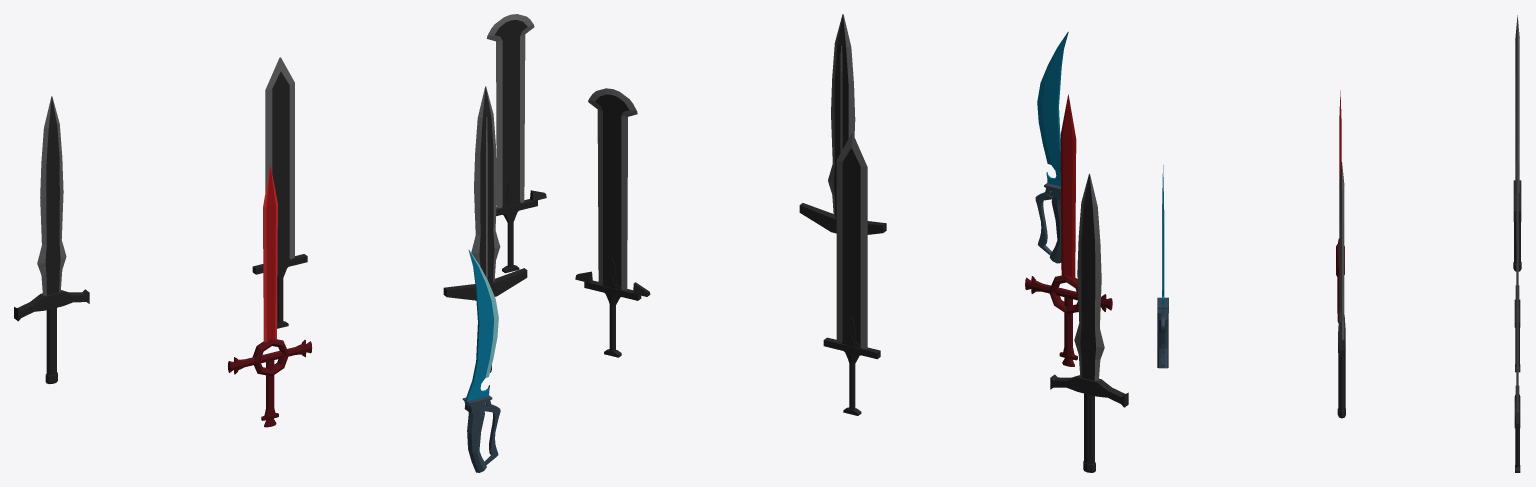
File: SwordBundle.fbx
The picture shows the model from 3 angles, left to right: view 1: azimuth 30°, elevation 25°; view 2: azimuth 150°, elevation 25°; view 3: azimuth 270°, elevation 25°; orthographic projection. The views are drawn at different scales.
Parts seen in each view (by area): view 1: Sword6, Sword1, Sword5, Sword2, Sword4, Sword3; view 2: Sword6, Sword5, Sword1, Sword4, Sword2, Sword3; view 3: Sword2, Sword1, Sword3, Sword6, Sword5, Sword4.
Part boxes in pixels (x1=…): Sword6: x1=474, y1=14, x2=546, y2=273; Sword1: x1=14, y1=96, x2=89, y2=384; Sword5: x1=252, y1=57, x2=307, y2=328; Sword2: x1=443, y1=86, x2=527, y2=372; Sword4: x1=228, y1=165, x2=312, y2=427; Sword3: x1=462, y1=250, x2=500, y2=472; Sword6: x1=575, y1=88, x2=650, y2=357; Sword5: x1=823, y1=133, x2=880, y2=415; Sword1: x1=1050, y1=173, x2=1128, y2=472; Sword4: x1=1025, y1=94, x2=1112, y2=366; Sword2: x1=799, y1=14, x2=886, y2=234; Sword3: x1=1035, y1=31, x2=1068, y2=263; Sword2: x1=1337, y1=162, x2=1345, y2=418; Sword1: x1=1513, y1=15, x2=1521, y2=271; Sword3: x1=1157, y1=165, x2=1168, y2=368; Sword6: x1=1514, y1=240, x2=1520, y2=472; Sword5: x1=1514, y1=129, x2=1520, y2=372; Sword4: x1=1336, y1=90, x2=1344, y2=322.
Size of the model in its own units: 924 by 478 by 617.
Materials: 2 (2 with a texture image).
